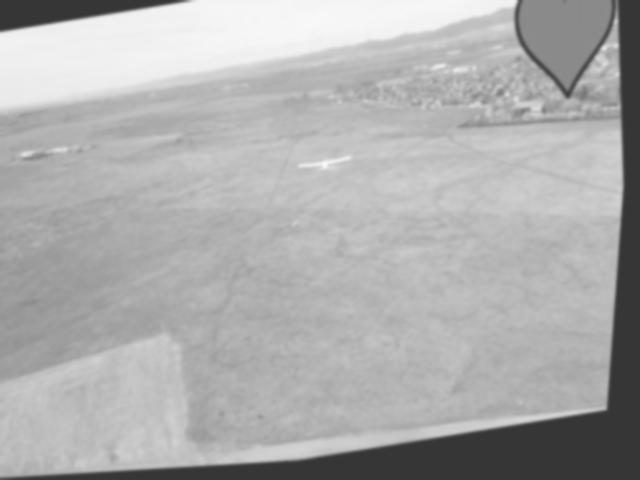hedef: (294, 150, 364, 192)
